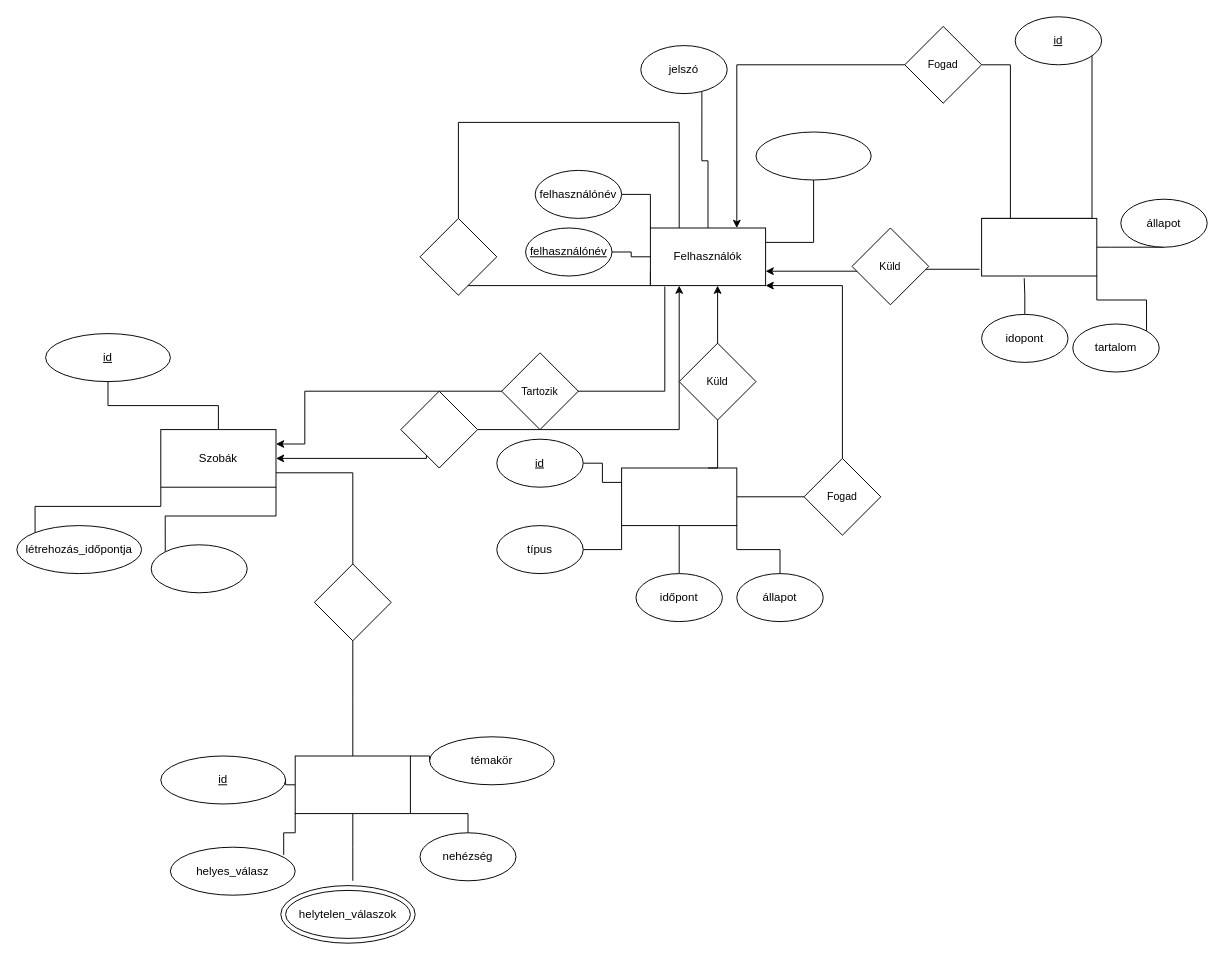
Some shapes in this 1224 by 960 pixel diagram are drawn without their labels. The shapes that lost their labels are listed below. From the top down, each one's box as (x1, y1, x2, y2) in pixels, then its label:
(755, 131, 871, 180): győzelmek_száma
(419, 217, 497, 295): Barátja
(981, 217, 1097, 276): Üzenetek
(400, 390, 478, 468): Létrehoz
(621, 467, 737, 526): Meghívások
(150, 544, 247, 593): körök_száma
(313, 563, 391, 641): Témaköre
(294, 755, 410, 814): Kérdések
